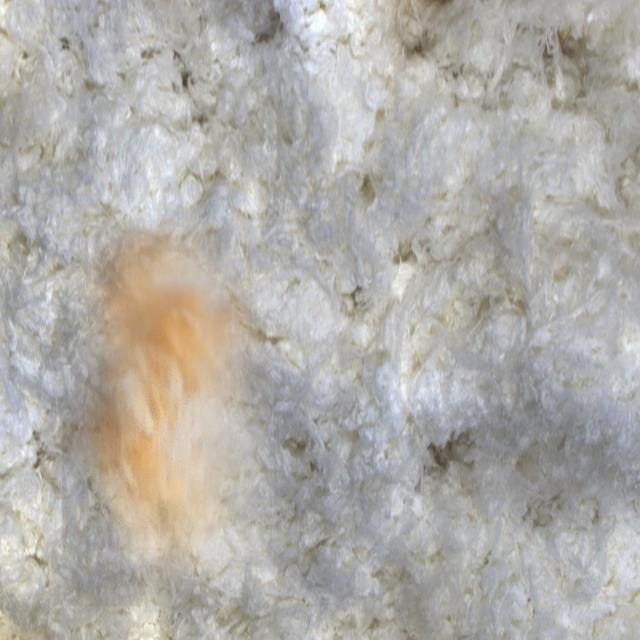dust: (62, 219, 274, 606)
